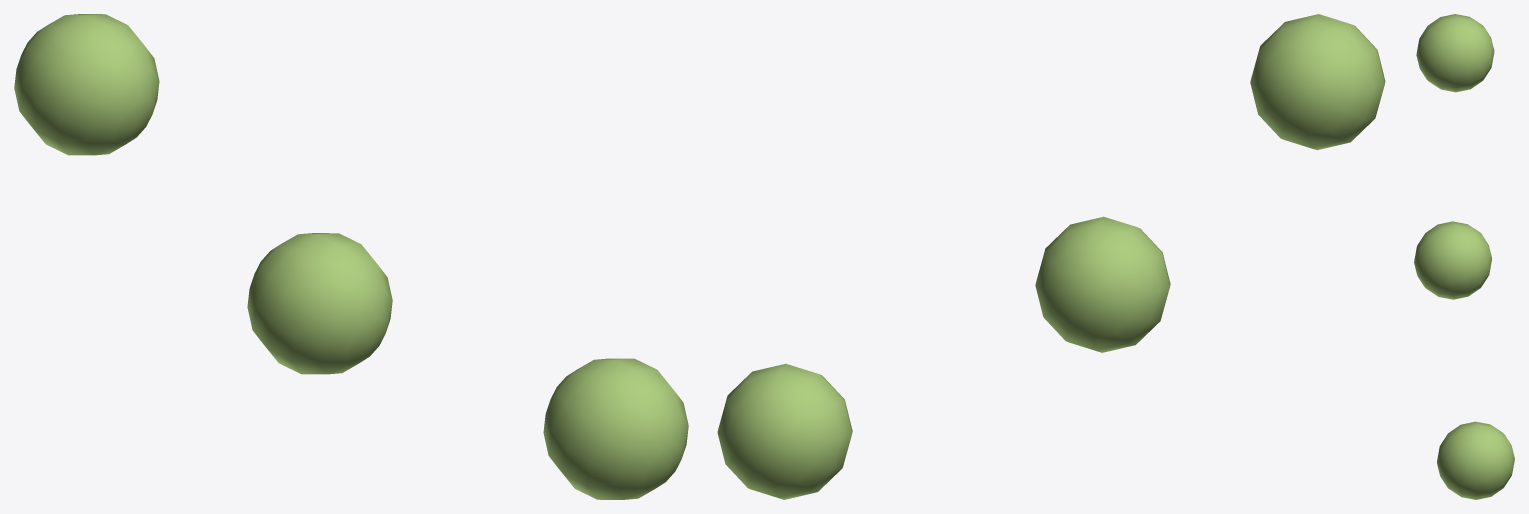
File: superolateral-superficial-inguinal-nodes-r.glb
3 views of the same model, side by side, from view 1: azimuth 30°, elevation 25°; view 2: azimuth 150°, elevation 25°; view 3: azimuth 270°, elevation 25° (orthographic). The views are drawn at different scales.
Visible parts, largest first — view 1: Superolateral superficial inguinal nodes.r; view 2: Superolateral superficial inguinal nodes.r; view 3: Superolateral superficial inguinal nodes.r.
Part boxes in pixels (x1=…): Superolateral superficial inguinal nodes.r: x1=14, y1=14, x2=688, y2=499; Superolateral superficial inguinal nodes.r: x1=717, y1=14, x2=1385, y2=499; Superolateral superficial inguinal nodes.r: x1=1414, y1=14, x2=1514, y2=499.
Bounding box in the file's own units: 0.0138 × 0.0122 × 0.00334.
